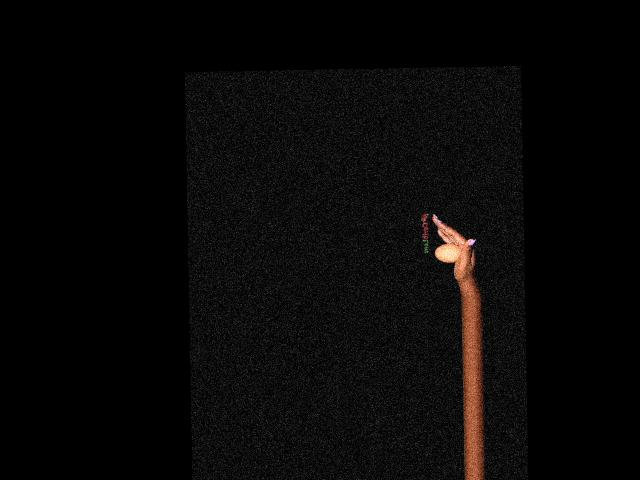egg: (434, 243, 460, 263)
